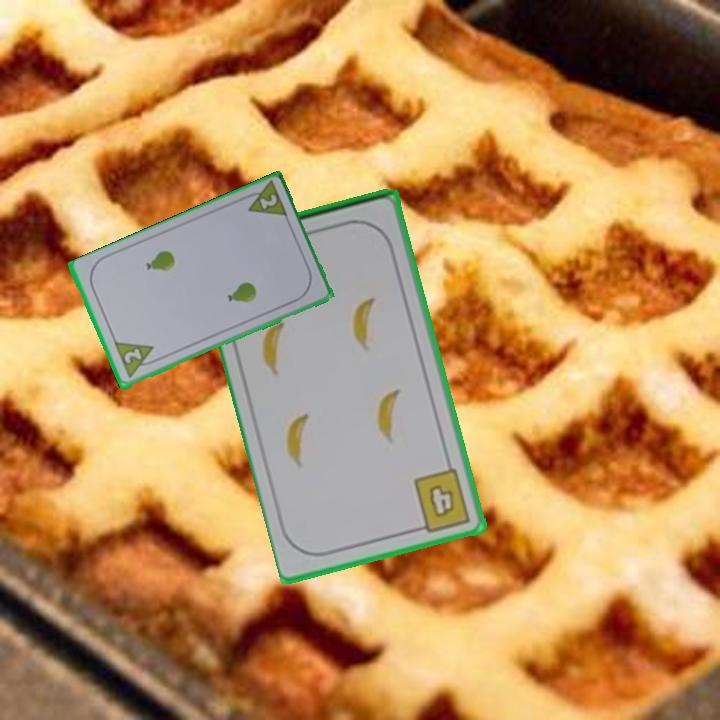2p: (238, 179, 291, 221), (120, 345, 144, 367)
4b: (410, 465, 474, 535)
